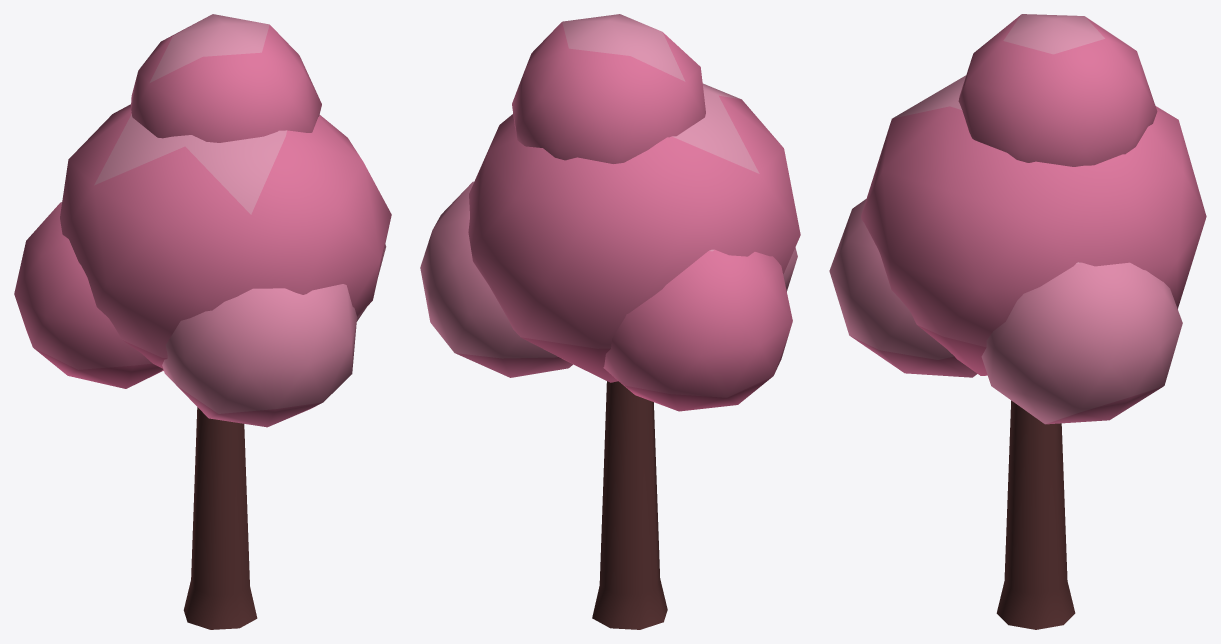
File: citrus-deco1.glb
3 renders of one model, left to right at view 1: azimuth 30°, elevation 25°; view 2: azimuth 150°, elevation 25°; view 3: azimuth 270°, elevation 25°, orthographic. The views are drawn at different scales.
Visible parts, largest first — view 1: citrus-deco1; view 2: citrus-deco1; view 3: citrus-deco1.
Part boxes in pixels (x1,y1,x2,y2): citrus-deco1: (14,14,391,629); citrus-deco1: (420,14,800,629); citrus-deco1: (829,14,1206,629).
Size of the model in its own units: 2.29 by 3.78 by 2.15.
